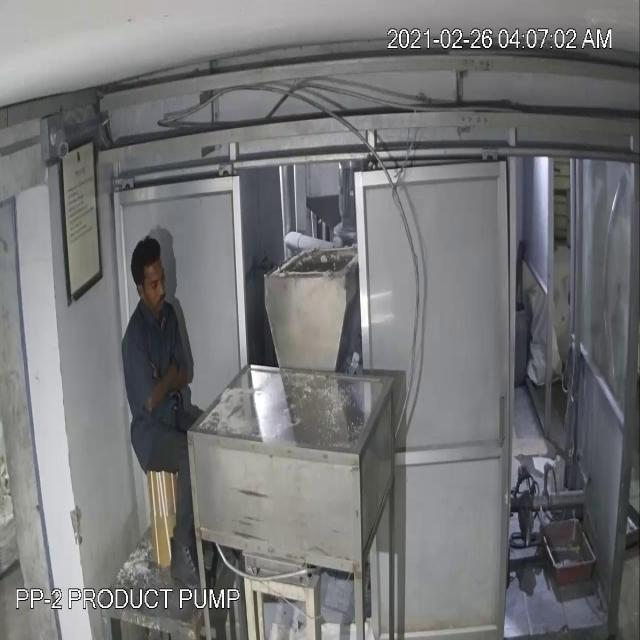no-helmet: (128, 234, 170, 290)
